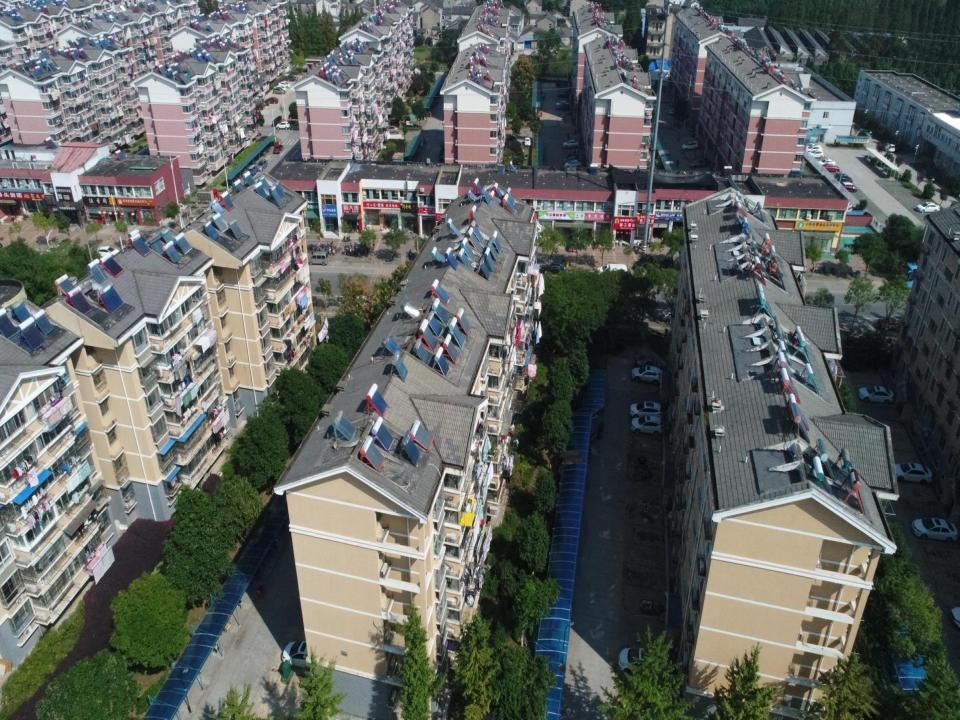bus: (898, 260, 945, 291)
car: (618, 645, 663, 675), (281, 640, 324, 670), (910, 517, 958, 542), (890, 461, 934, 484), (631, 414, 666, 437), (858, 384, 895, 405), (631, 364, 664, 385), (630, 401, 664, 418), (635, 355, 667, 372), (878, 316, 904, 333), (661, 307, 681, 323), (540, 263, 566, 275), (916, 202, 940, 213), (838, 181, 858, 193), (882, 136, 895, 153), (688, 158, 708, 169), (834, 173, 854, 184), (681, 140, 699, 152), (816, 158, 837, 168), (562, 139, 580, 149), (564, 159, 580, 170), (256, 158, 268, 172), (556, 100, 571, 111), (805, 145, 823, 154), (821, 163, 840, 171), (806, 150, 824, 158), (276, 121, 290, 130), (272, 86, 286, 95), (802, 142, 816, 151), (265, 96, 278, 105), (290, 122, 304, 130), (284, 74, 298, 82), (273, 144, 284, 154), (386, 125, 399, 133), (278, 81, 291, 88), (275, 85, 287, 92), (524, 136, 531, 146)
van: (597, 263, 627, 282), (308, 251, 329, 266)
